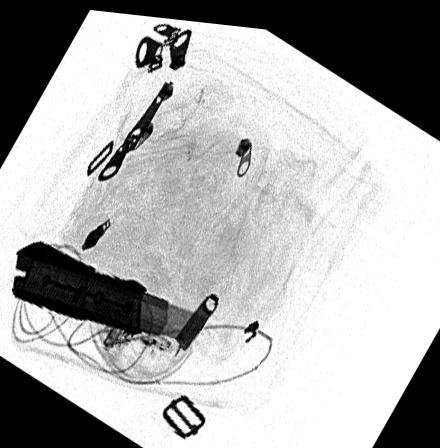Knife: (12, 238, 211, 341)
